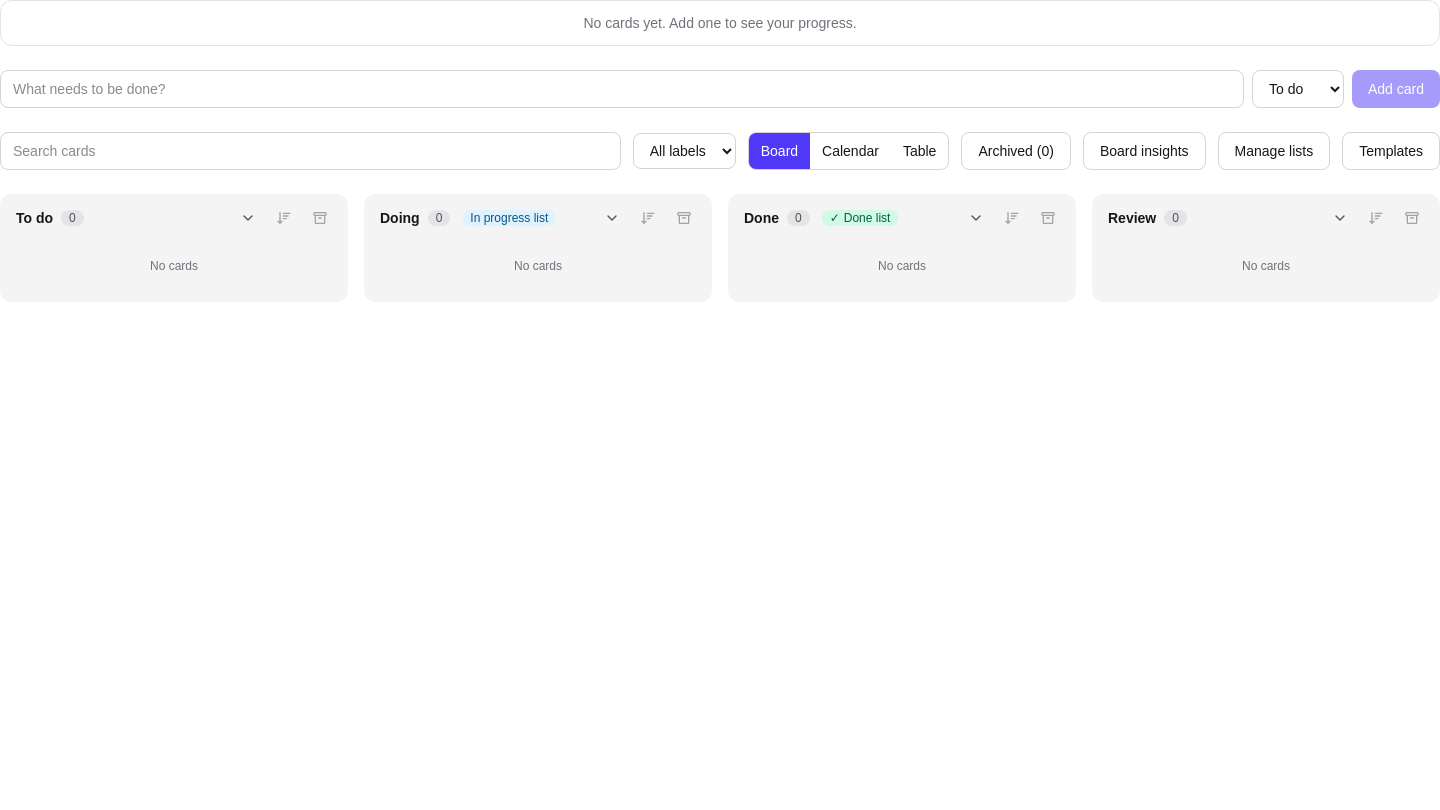
Scenario: <Board /> custom lists › deletes an empty list after confirmation
Step 1. Click the button "Manage lists" → {"x": 1274, "y": 151}, box [1218,132,1330,170]
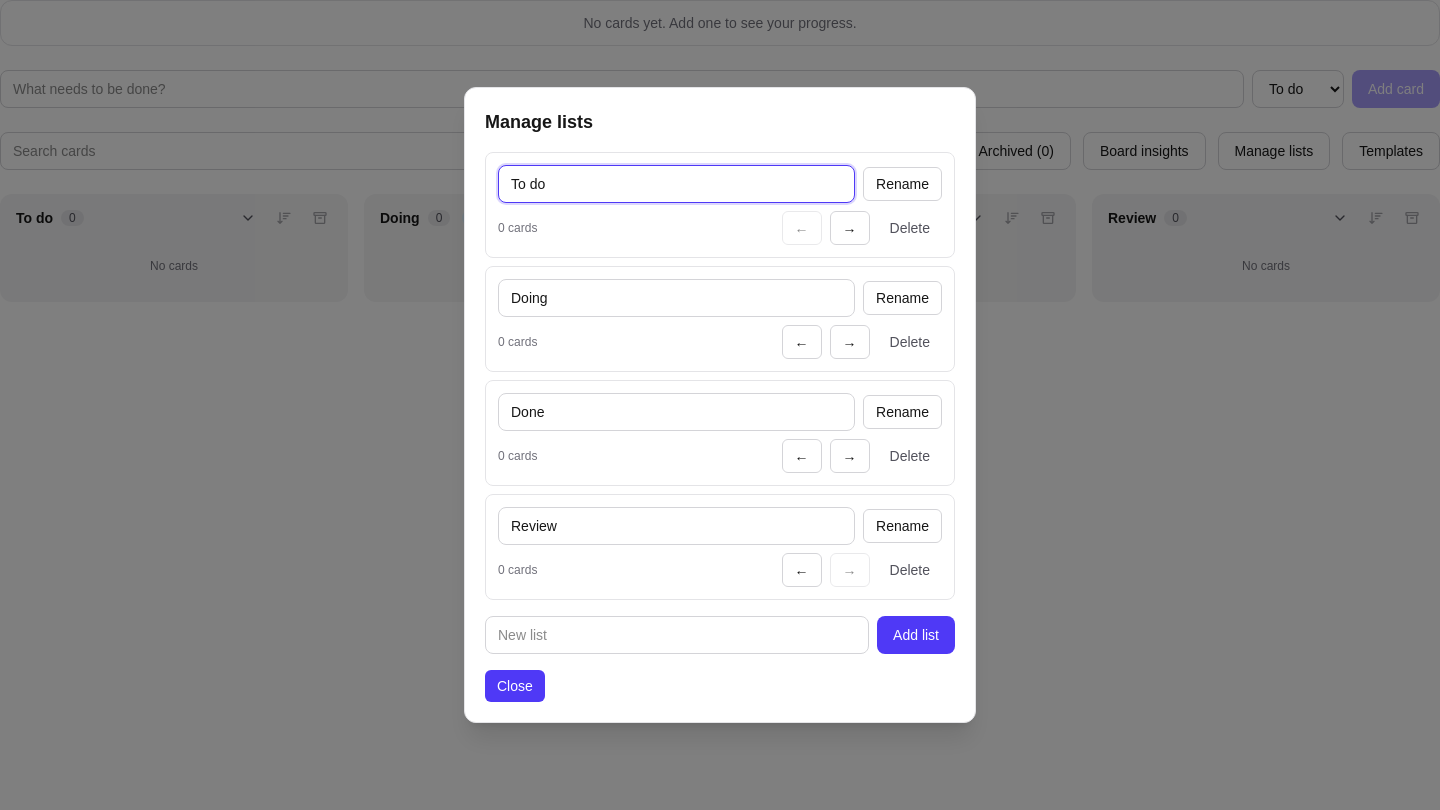
Step 2. Click the button named "Delete list \"Review\"" → {"x": 910, "y": 570}, box [878,554,942,586]
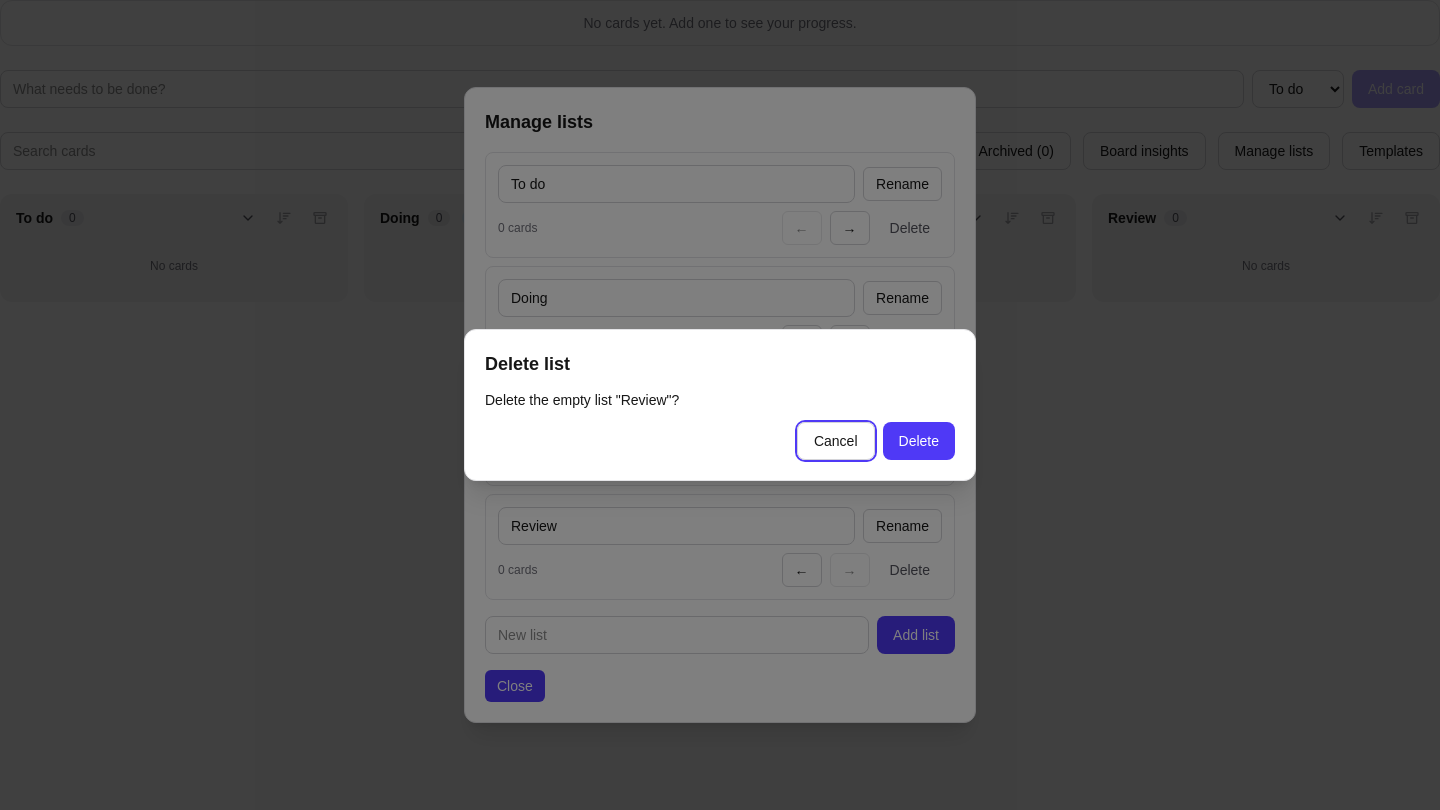
Expected: the text "Delete the empty list \"Review\"?" is shown, [485,392,679,408]
Step 3. Click the button "Cancel" → {"x": 836, "y": 441}, box [797,422,874,460]
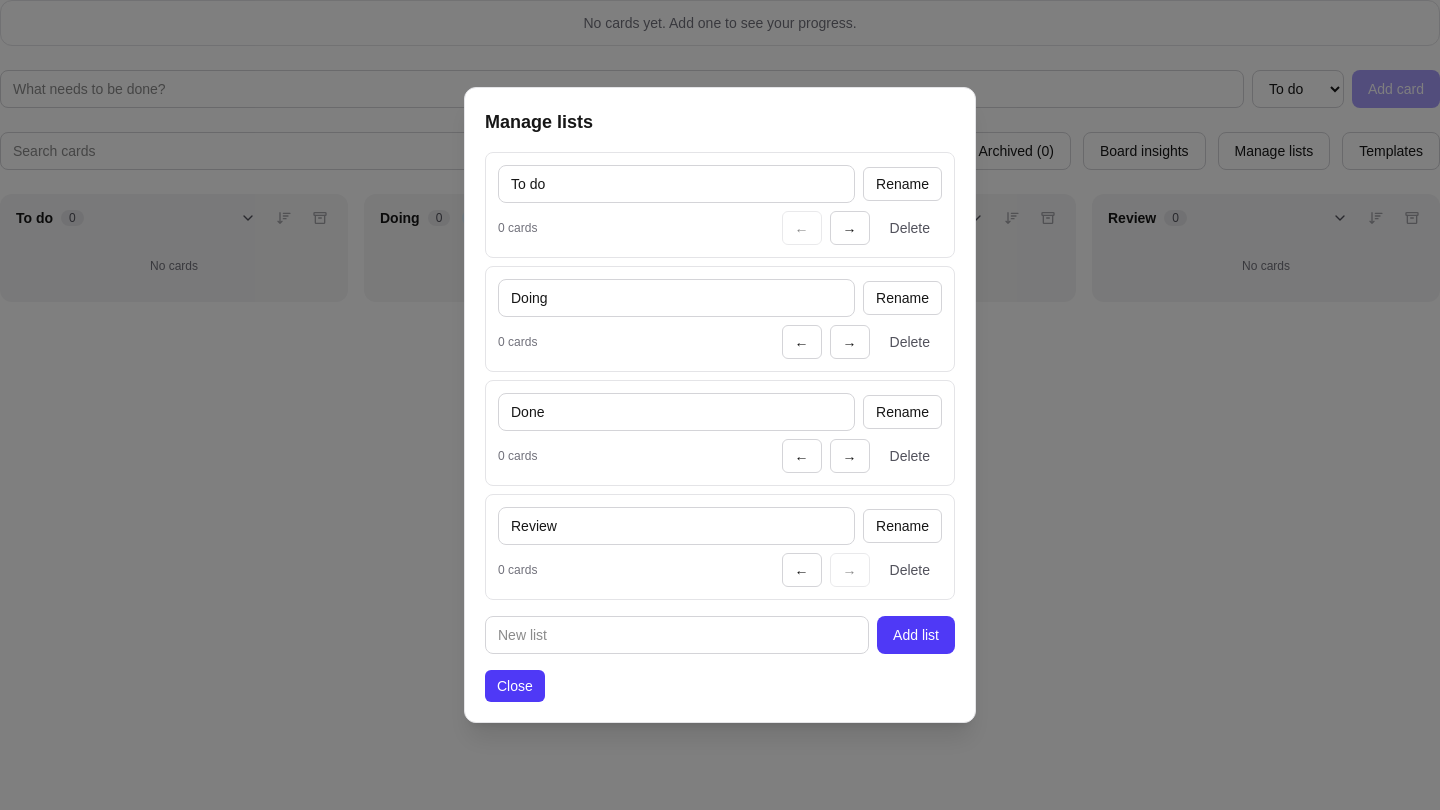
Expected: the text "Review" is shown, [1108,208,1156,228]
Step 4. Click the button named "Delete list \"Review\"" → {"x": 910, "y": 570}, box [878,554,942,586]
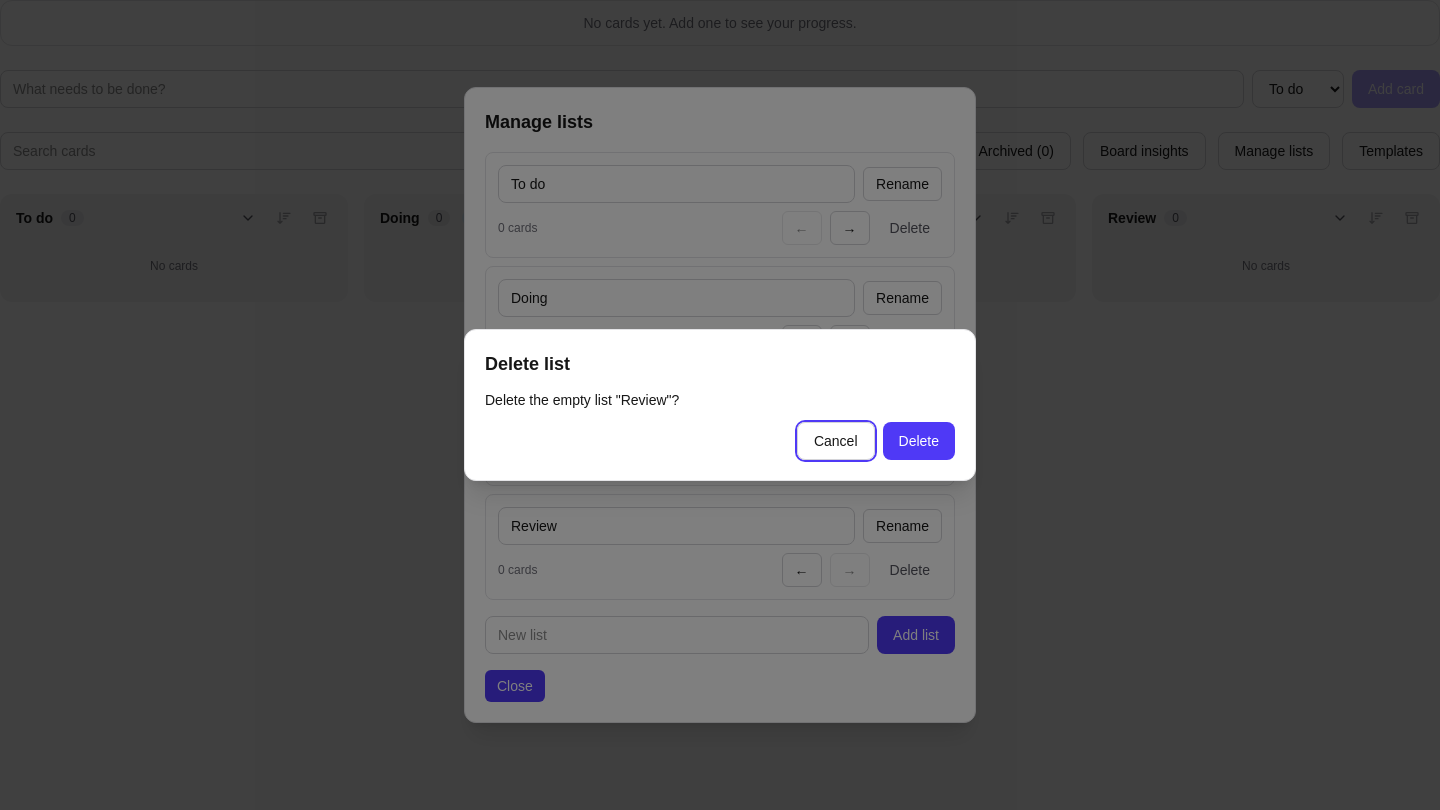
Step 5. Click the button "Delete" → {"x": 919, "y": 441}, box [882,422,955,460]
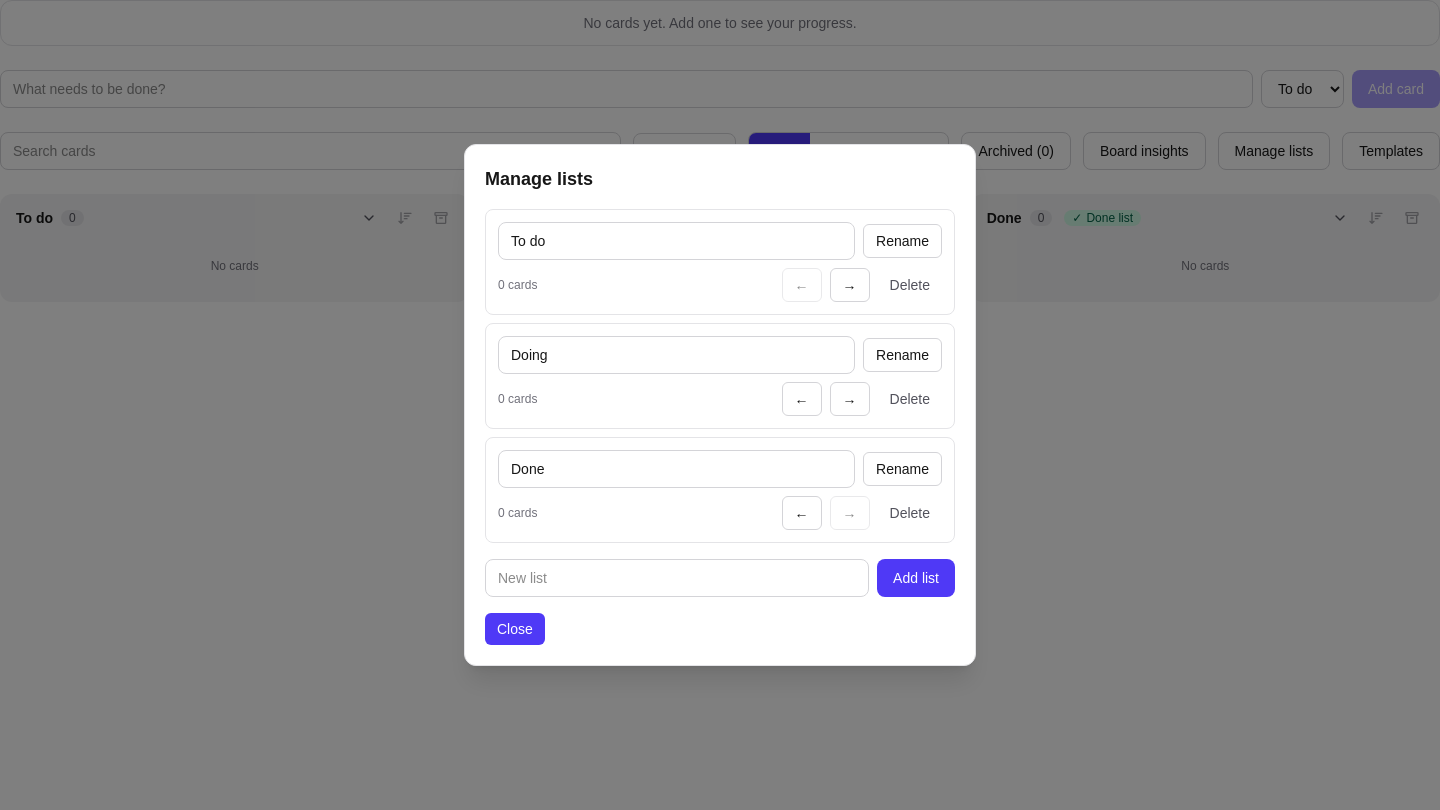
Expected: the text "Review" is gone
